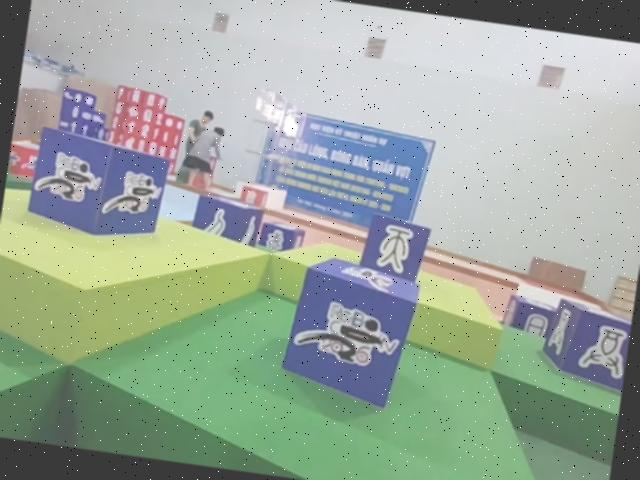R1 Blue: (275, 250, 423, 414), (24, 127, 173, 246)
R2 Fake Blue: (358, 211, 433, 284), (502, 292, 562, 339), (257, 222, 306, 257)
R2 Real Blue: (534, 297, 634, 398), (189, 192, 265, 248)
